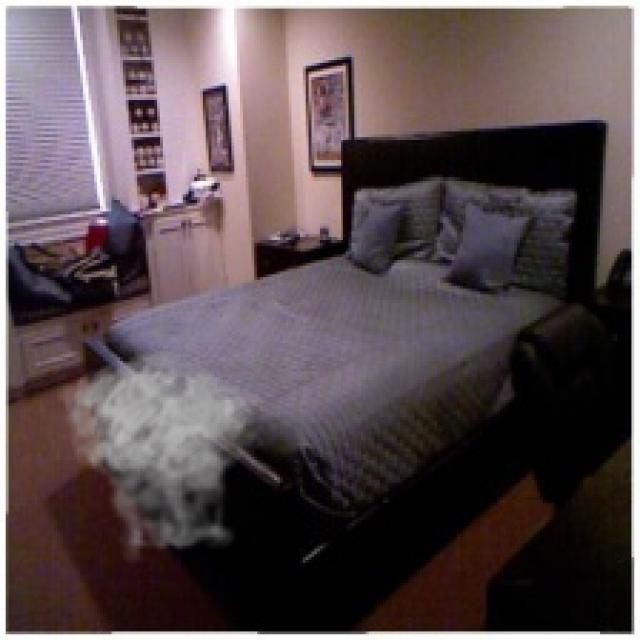smoke: (57, 348, 272, 566)
